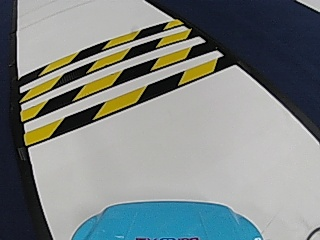bump: (29, 27, 183, 124)
